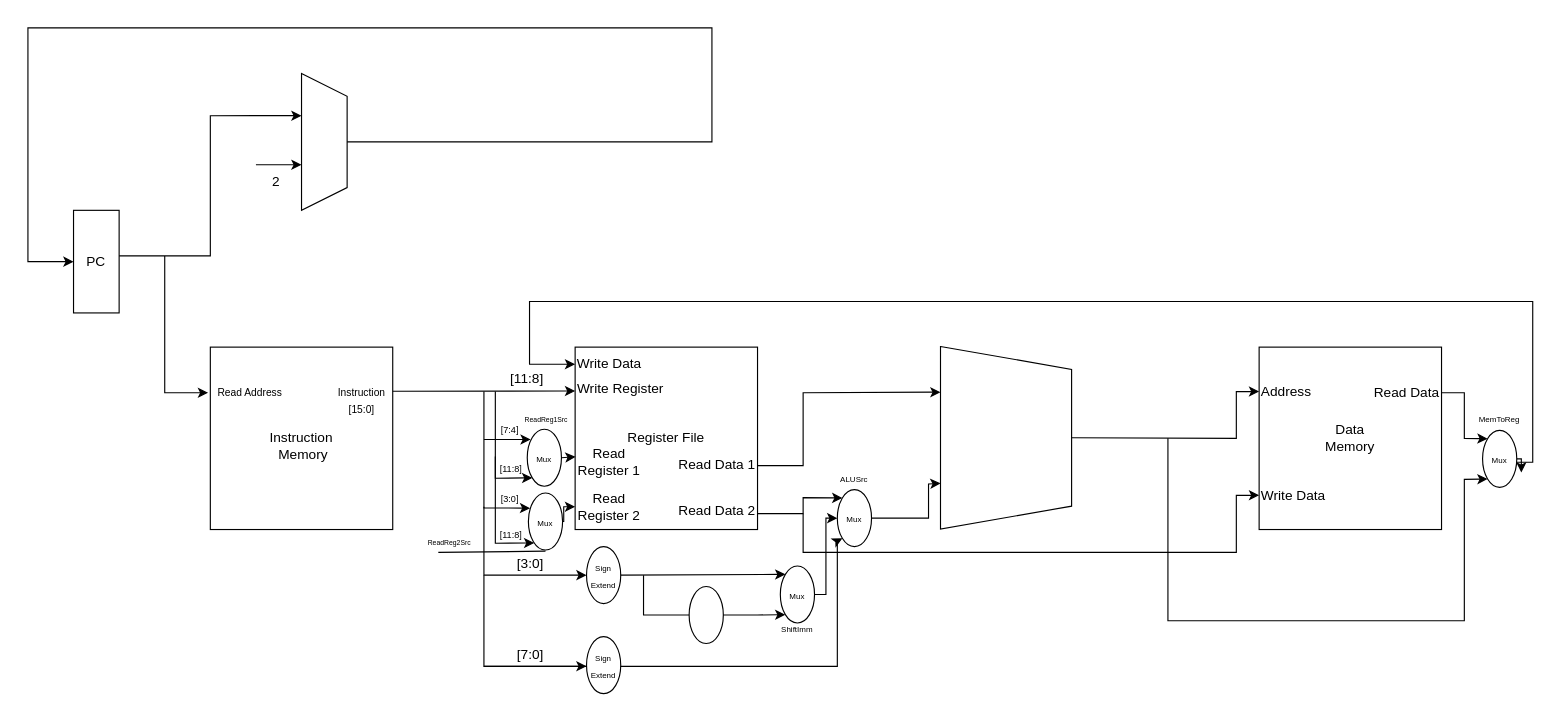
The diagram is 1562 pixels wide and 714 high, and some of its shapes have lost their labels. Here are the shapes that lost their labels. From the top down, the centre of each, then its label:
At point (323, 141): "Add".
At point (1005, 437): "ALU".
At point (705, 614): "Shift 1".
